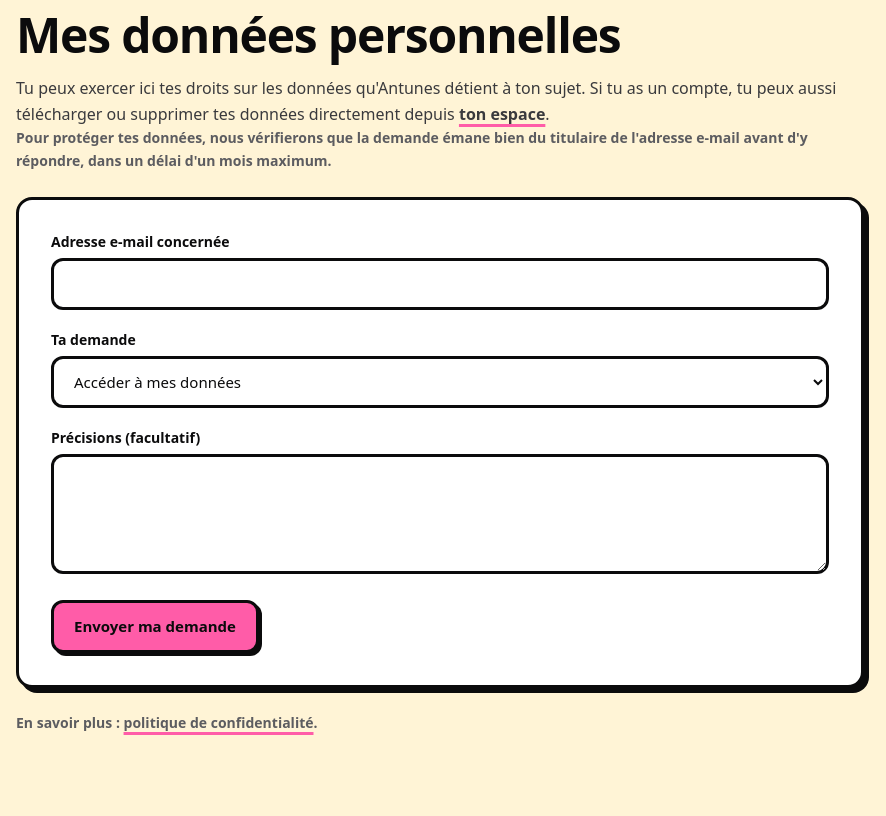
Scenario: PrivacyRequest › shows the error returned by the API
Type "client@example.com" into the field labelled "Adresse e-mail concernée" at (440, 284), box [51, 258, 829, 310]
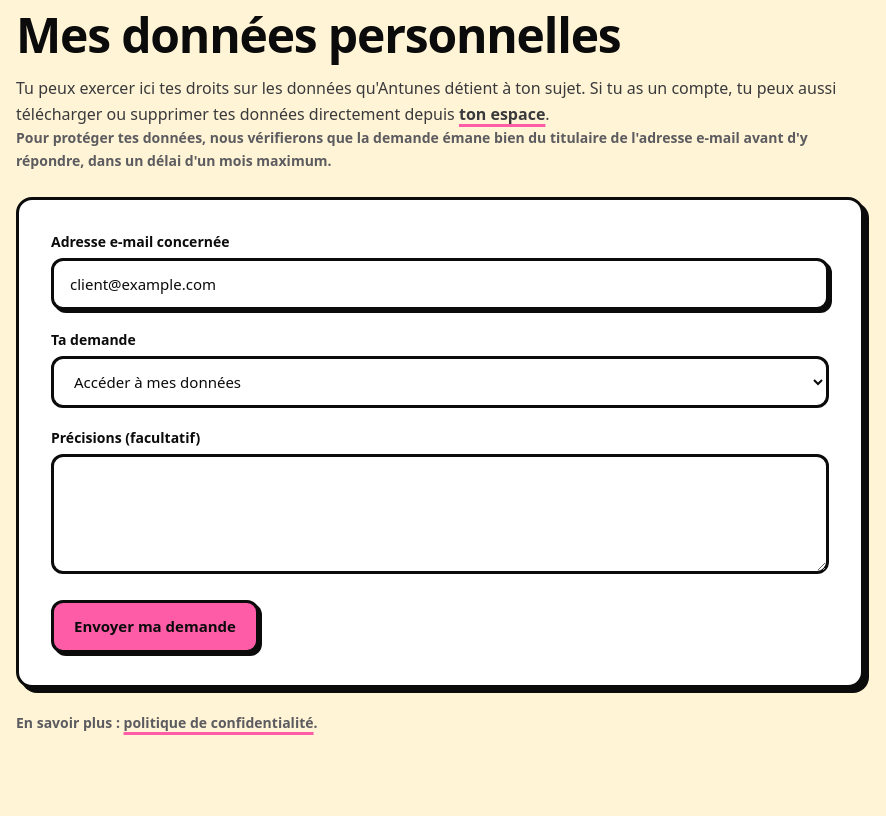
Click the button "Envoyer ma demande" at (155, 626), box [51, 600, 259, 652]
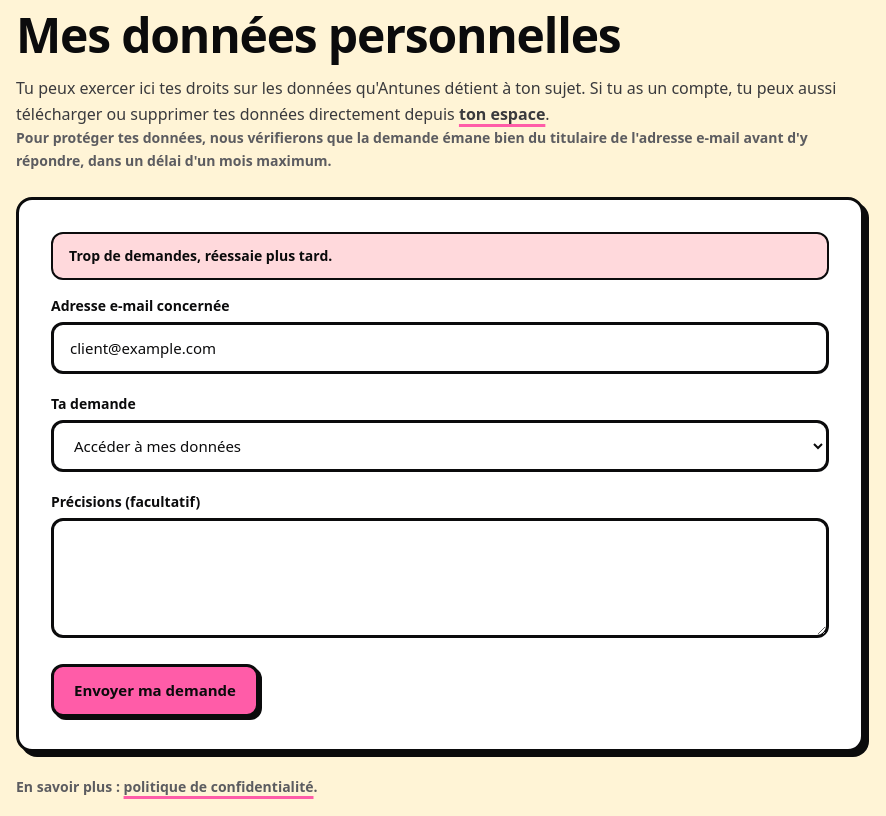
Now the text "Trop de demandes, réessaie plus tard." is shown, box [51, 232, 829, 280]
